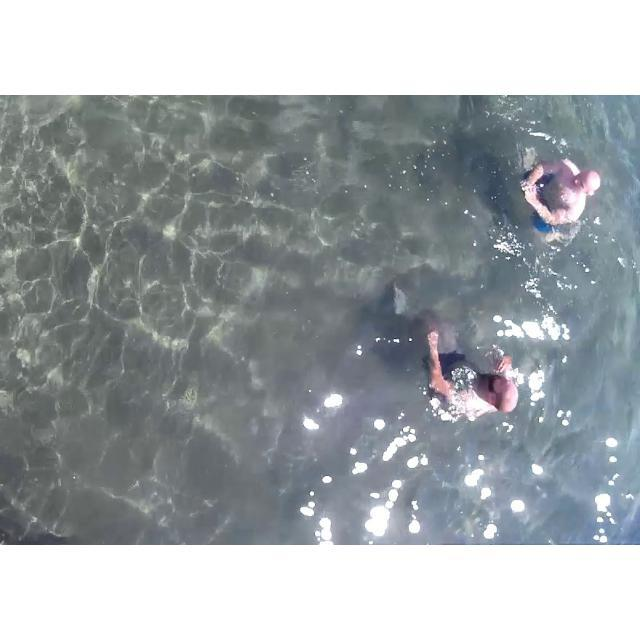human: (410, 300, 536, 444), (508, 137, 606, 251)
